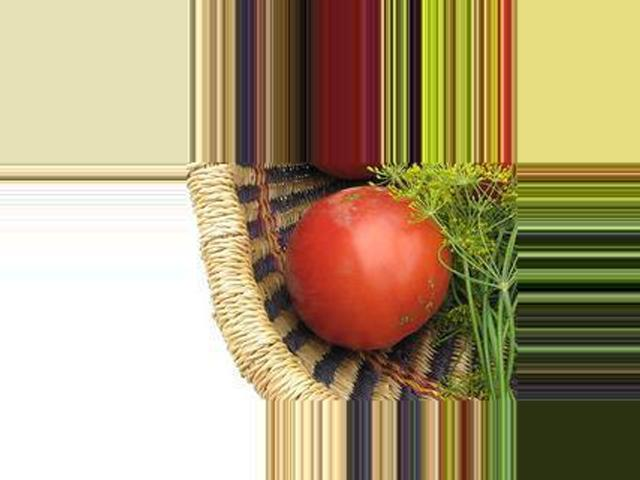tomato: (285, 185, 453, 348)
